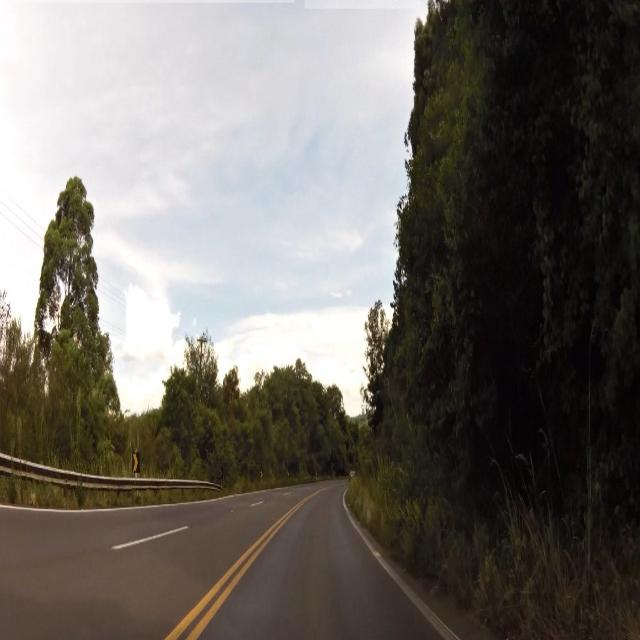Del: (131, 454, 139, 473)
